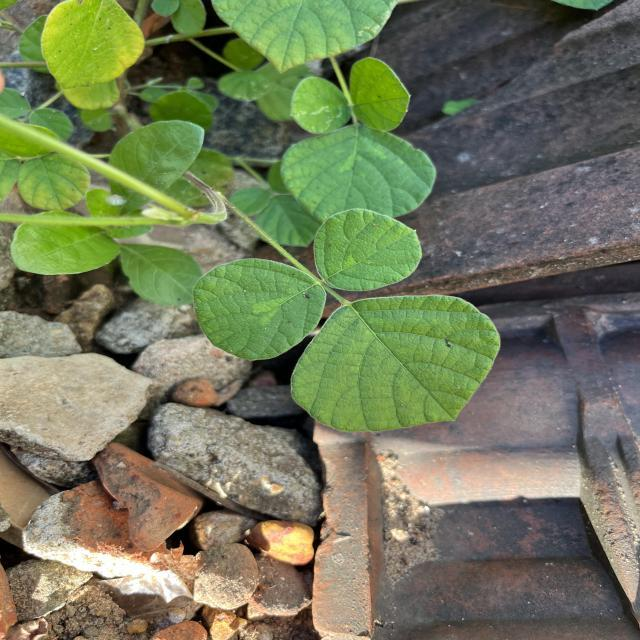Pseudarthria viscida: (190, 206, 504, 435)
